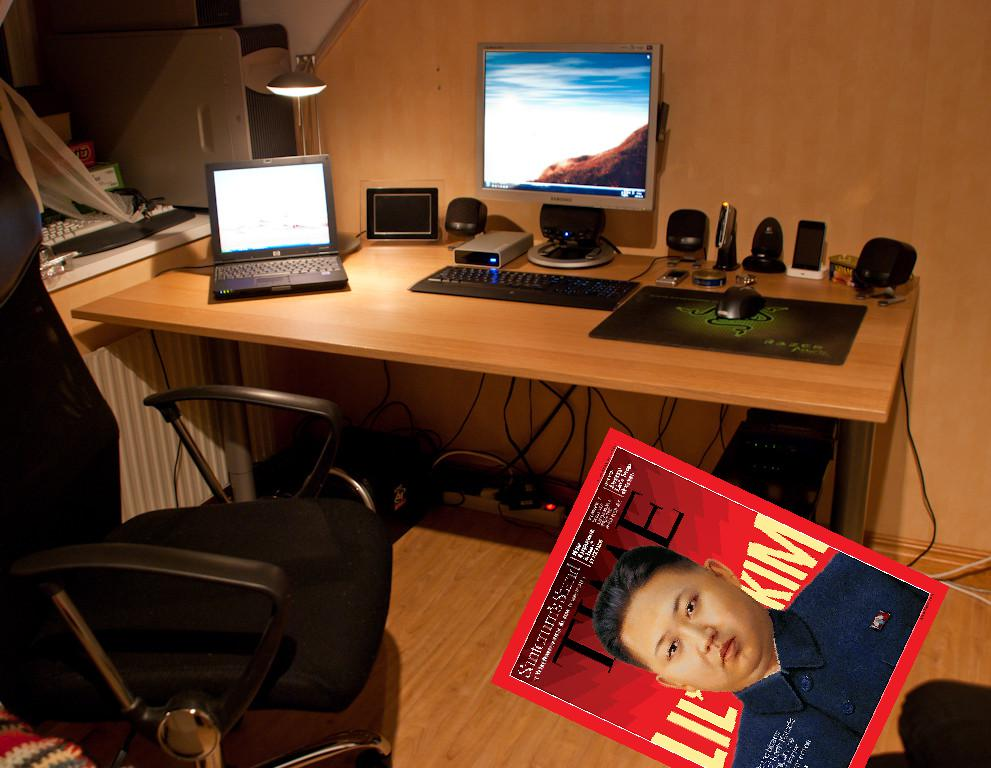times: (488, 434, 960, 768)
